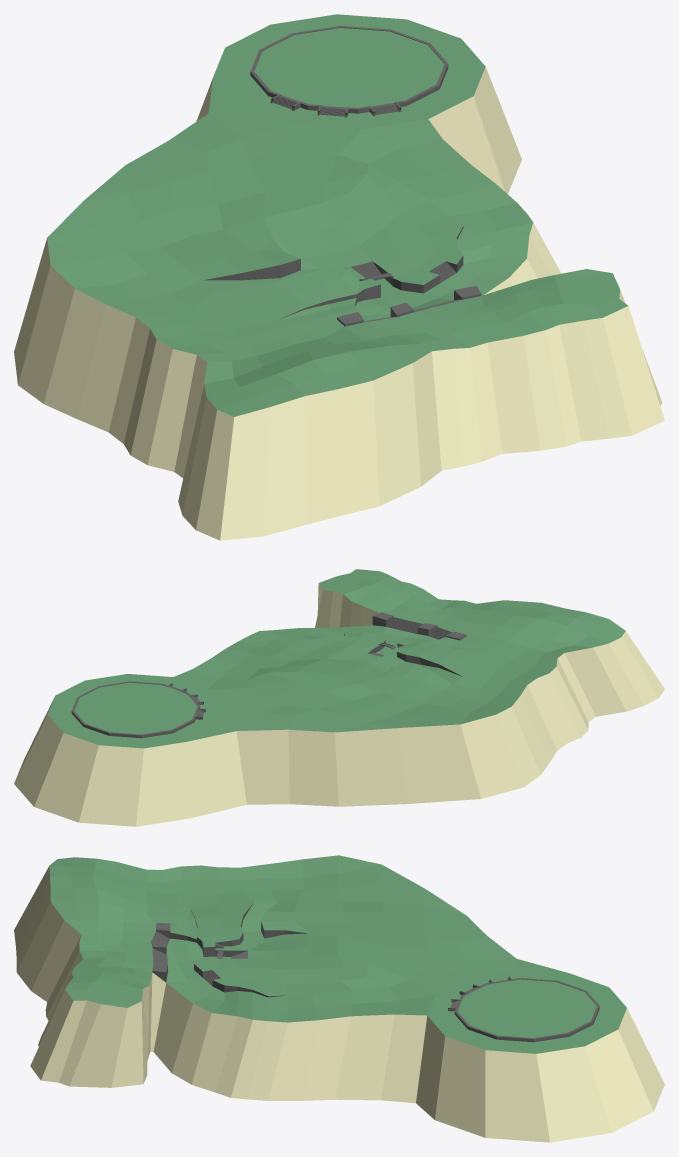
File: AirGround.fbx
3 views of the same model, one above another, from view 1: azimuth 30°, elevation 25°; view 2: azimuth 150°, elevation 25°; view 3: azimuth 270°, elevation 25° (orthographic). The views are drawn at different scales.
Visible parts, largest first — view 1: Cube.008, stairs_Tamle; view 2: Cube.008; view 3: Cube.008.
Part boxes in pixels (x1=…): Cube.008: x1=14, y1=14, x2=664, y2=540; stairs_Tamle: x1=270, y1=94, x2=401, y2=117; Cube.008: x1=14, y1=569, x2=664, y2=826; Cube.008: x1=14, y1=855, x2=664, y2=1142.
Bounding box in the file's own units: 39274 × 6454 × 47376.
